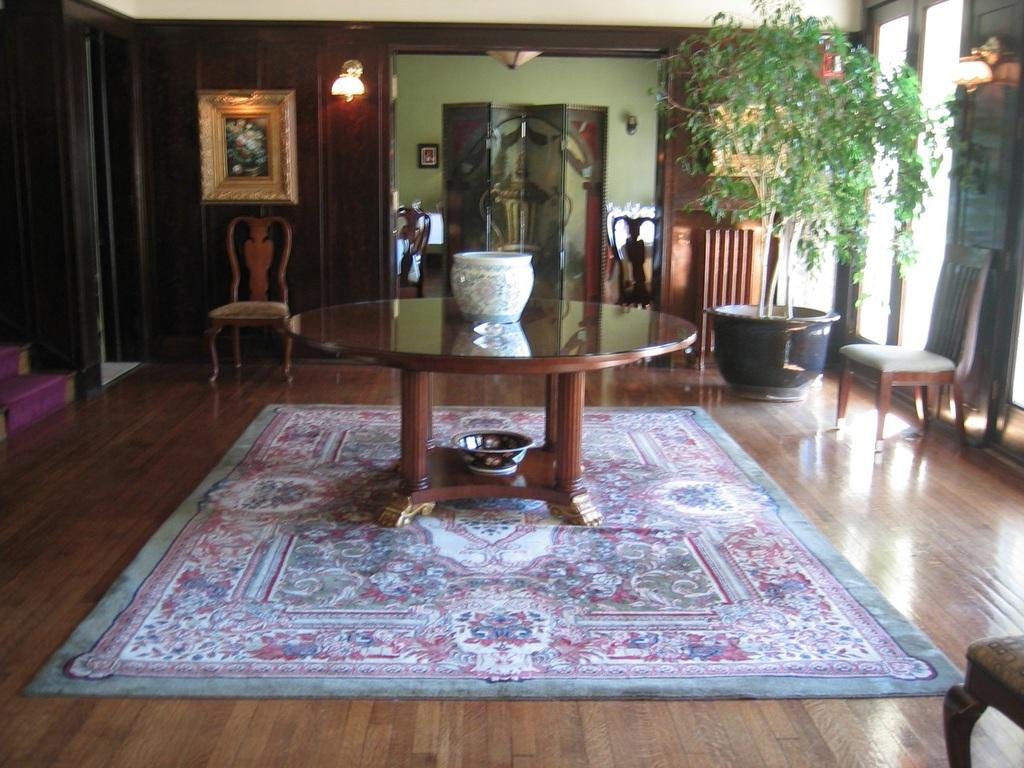Chair: (835, 242, 997, 452), (190, 238, 298, 395), (941, 626, 1023, 767), (611, 210, 659, 310), (393, 206, 431, 298)
